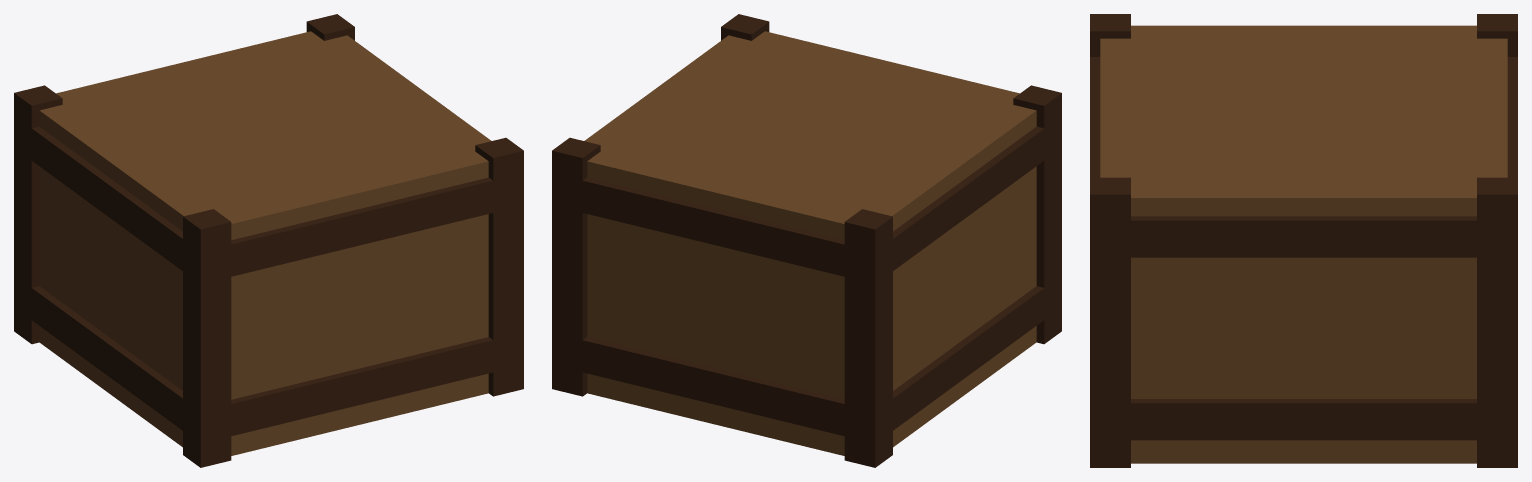
The model's file is Crate.fbx.
3 views of the same model, side by side, from view 1: azimuth 30°, elevation 25°; view 2: azimuth 150°, elevation 25°; view 3: azimuth 270°, elevation 25° (orthographic). The views are drawn at different scales.
Parts seen in each view (by area): view 1: Crate; view 2: Crate; view 3: Crate.
Boxes of the visible parts, x1,y1,x2,y2 form: Crate: [14, 14, 523, 467]; Crate: [552, 14, 1061, 467]; Crate: [1090, 14, 1517, 467].
Size of the model in its own units: 0.84 by 0.592 by 0.84.
